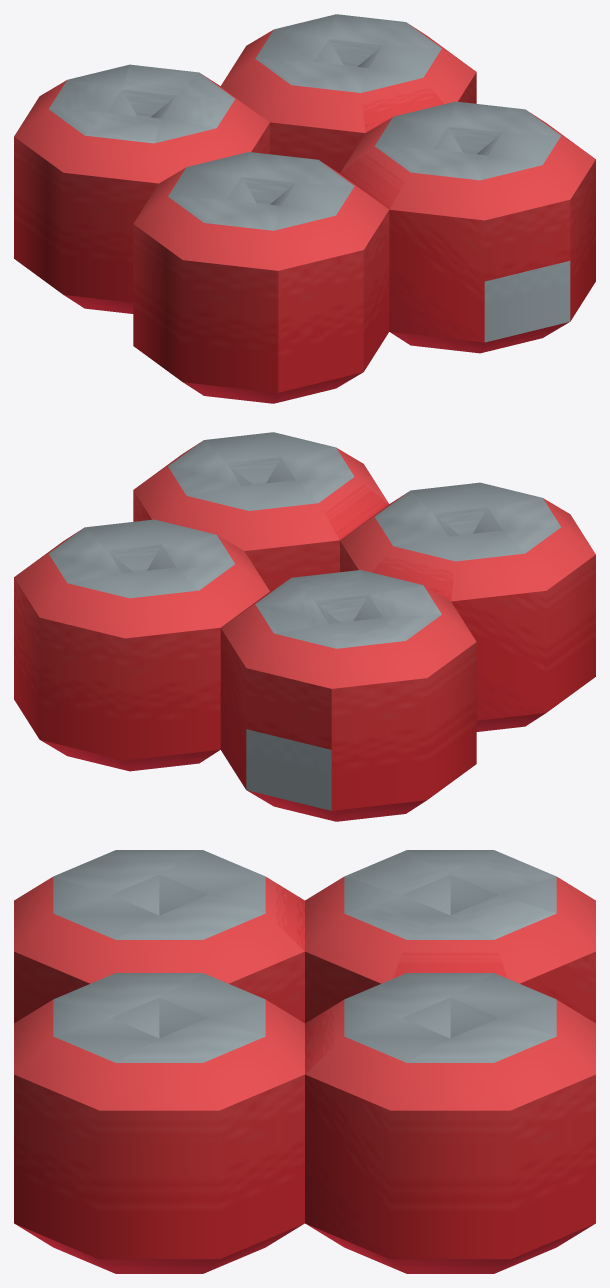
File: containers-d.glb
3 views of the same model, one above another, from view 1: azimuth 30°, elevation 25°; view 2: azimuth 150°, elevation 25°; view 3: azimuth 270°, elevation 25° (orthographic). The views are drawn at different scales.
Visible parts, largest first — view 1: containers_D; view 2: containers_D; view 3: containers_D.
Boxes of the visible parts, x1,y1,x2,y2 form: containers_D: (14, 14, 595, 403); containers_D: (14, 432, 595, 821); containers_D: (14, 850, 595, 1273).
Size of the model in its own units: 0.5 by 0.2 by 0.5.
Materials: 1 (1 with a texture image).
